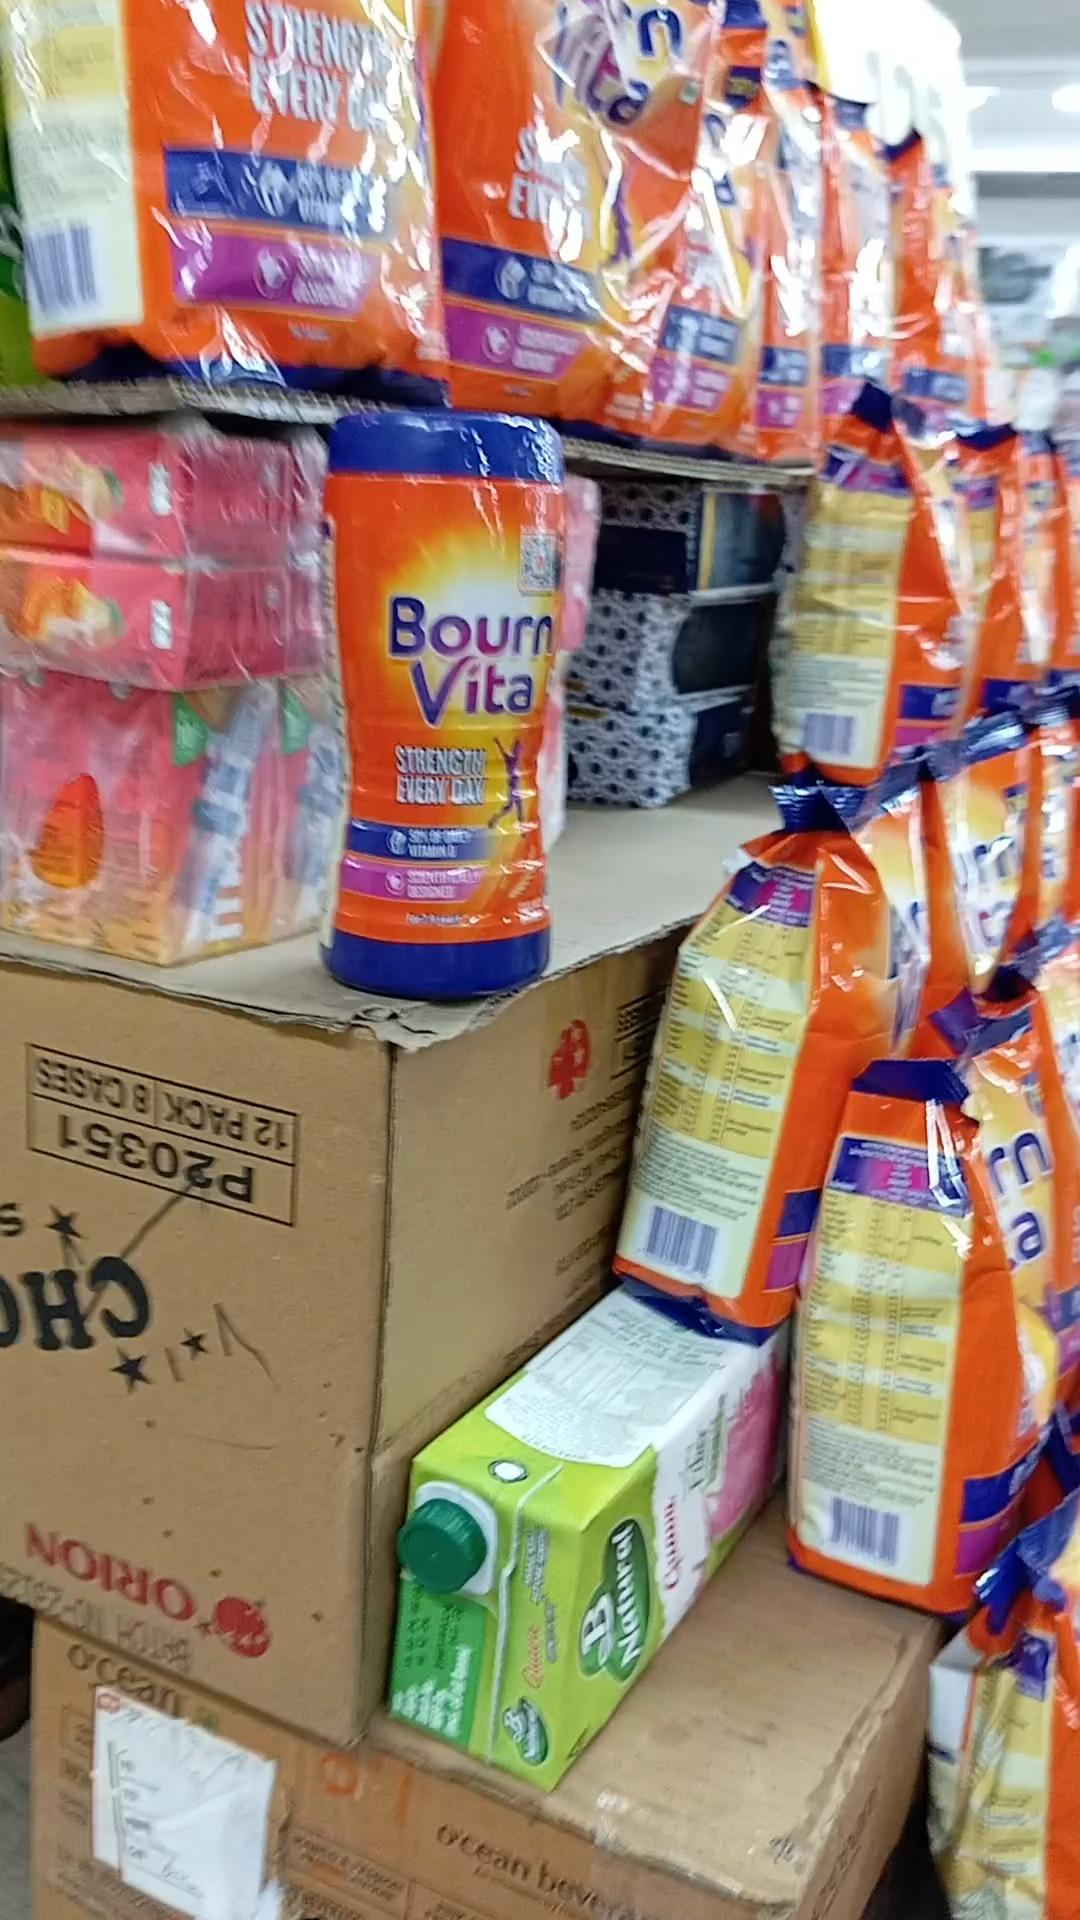BOURN_VITA_200_G_JAR: (334, 394, 546, 982)
